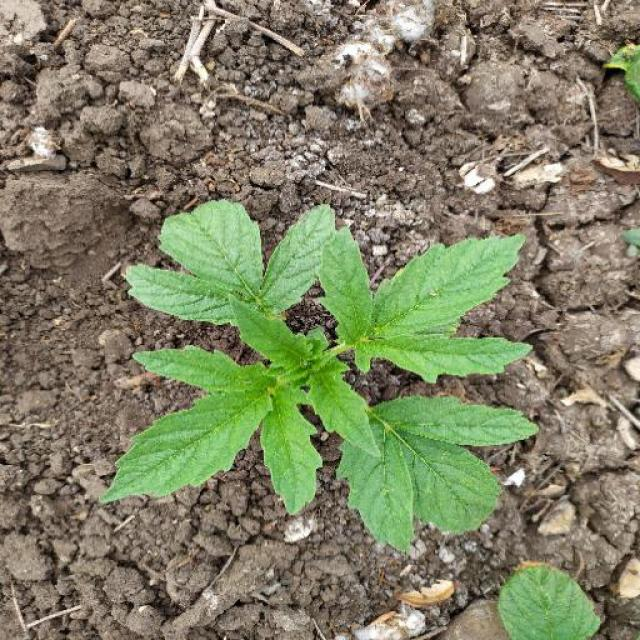crop: (124, 206, 544, 550)
